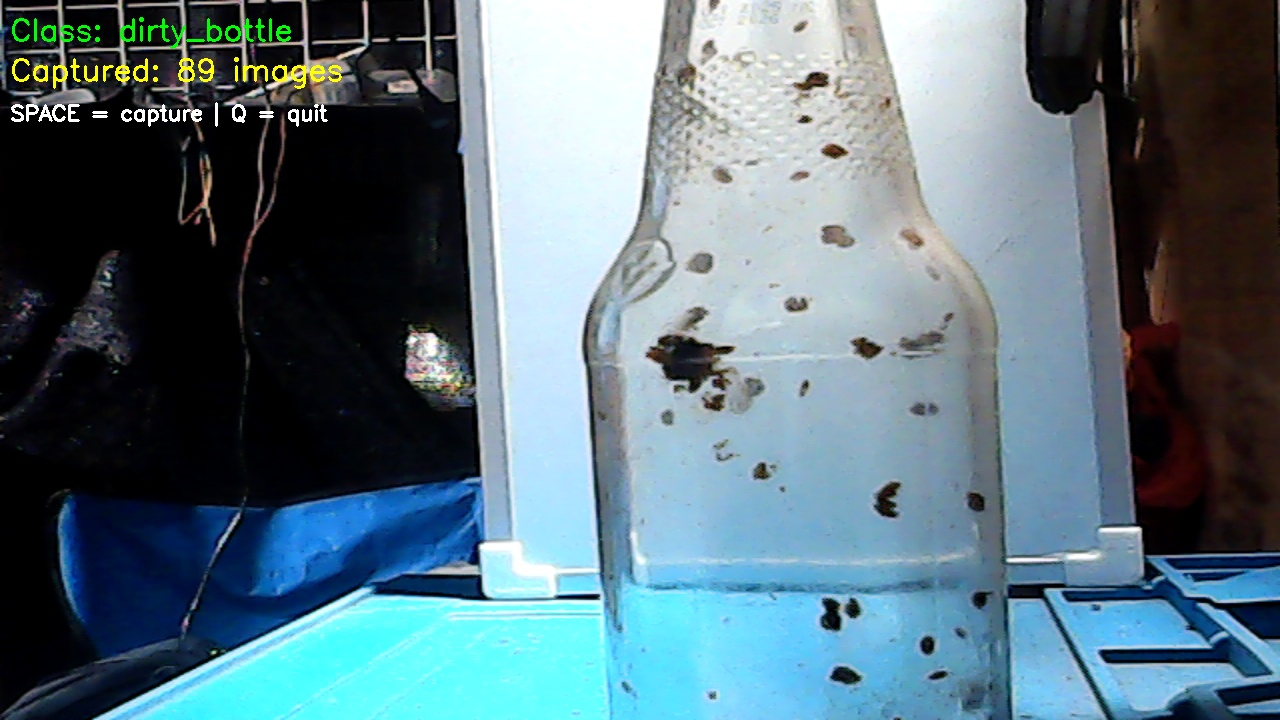dirty_bottle: (576, 7, 1022, 715)
